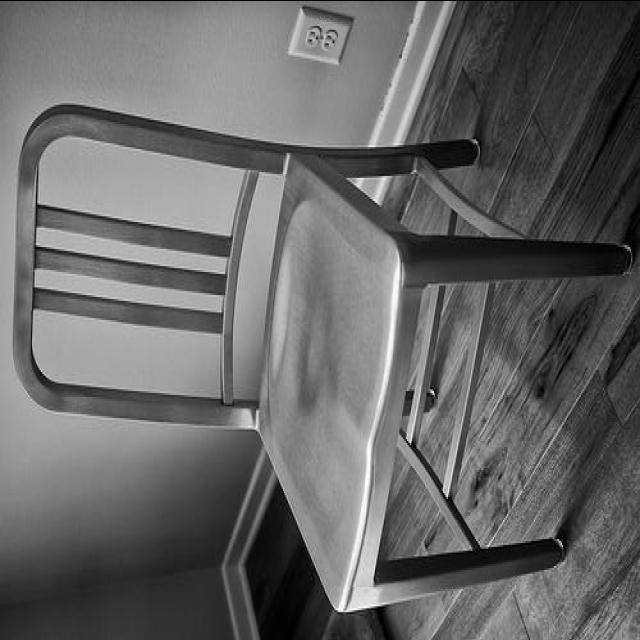chair: (14, 103, 630, 606)
